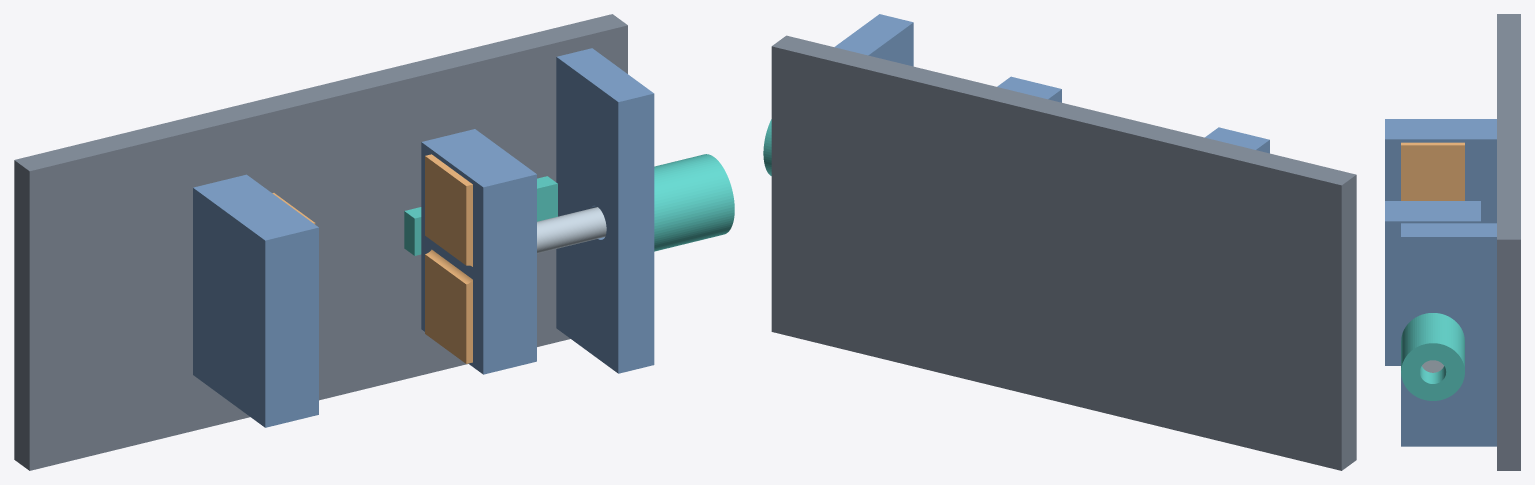
The model's file is assembly.glb.
3 views of the same model, side by side, from view 1: azimuth 30°, elevation 25°; view 2: azimuth 150°, elevation 25°; view 3: azimuth 270°, elevation 25° (orthographic). The views are drawn at different scales.
Visible parts, largest first — view 1: base, actuator_support, fixed_jaw, moving_jaw, moving_pad, actuator_body, rod, rail_central; view 2: base, actuator_support, fixed_jaw, moving_jaw; view 3: actuator_support, base, fixed_jaw, actuator_body, moving_jaw, fixed_pad, rod.
Part boxes in pixels (x1,y1,x2,y2): base: [14, 14, 627, 470]; actuator_support: [556, 48, 654, 373]; fixed_jaw: [193, 174, 318, 427]; moving_jaw: [421, 129, 536, 374]; moving_pad: [425, 154, 472, 363]; actuator_body: [654, 154, 734, 251]; rod: [537, 207, 606, 253]; rail_central: [404, 176, 557, 255]; base: [771, 35, 1356, 470]; actuator_support: [834, 14, 913, 66]; fixed_jaw: [1205, 127, 1269, 153]; moving_jaw: [997, 76, 1061, 102]; actuator_support: [1401, 223, 1496, 446]; base: [1497, 14, 1520, 470]; fixed_jaw: [1385, 119, 1496, 223]; actuator_body: [1401, 313, 1464, 400]; moving_jaw: [1385, 201, 1480, 365]; fixed_pad: [1401, 142, 1464, 200]; rod: [1422, 360, 1443, 372].
Size of the model in its own units: 0.1244 by 0.0554 by 0.0294.
